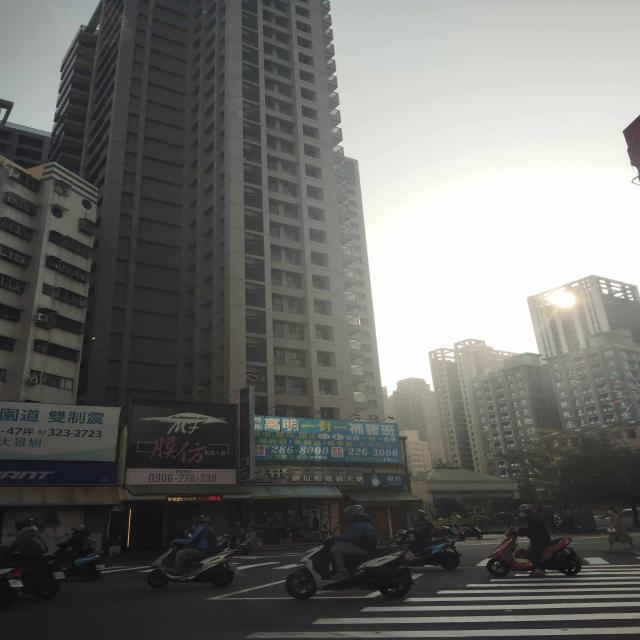person: (330, 505, 377, 580), (173, 515, 217, 576), (518, 504, 551, 577)
zebra crossing: (246, 566, 640, 639), (234, 560, 306, 571), (106, 565, 155, 573)
